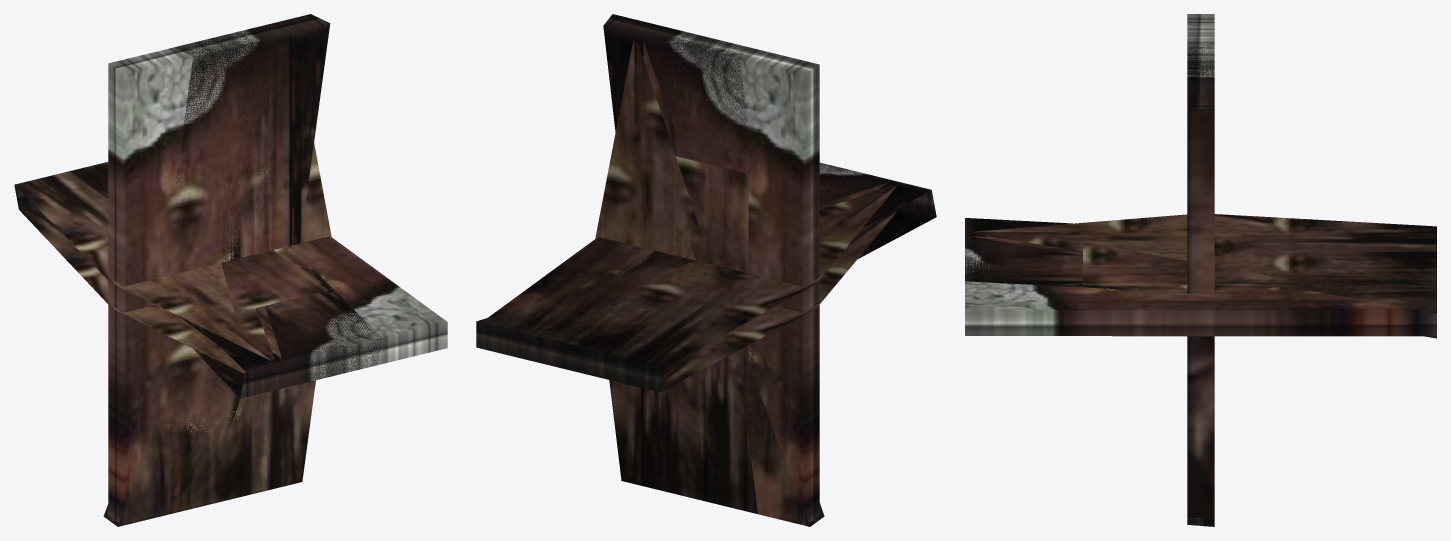
3 renders of one model, left to right at view 1: azimuth 30°, elevation 25°; view 2: azimuth 150°, elevation 25°; view 3: azimuth 270°, elevation 25°, orthographic. The views are drawn at different scales.
Parts seen in each view (by area): view 1: 3, 0, 8, 2, 4, 1, 6, 9; view 2: 3, 4, 8, 5, 2, 7, 0, 9, 1, 6; view 3: 2, 4, 0, 5, 6, 1, 3.
Boxes of the visible parts, x1,y1,x2,y2 form: 3: [108, 14, 330, 522]; 0: [172, 22, 291, 438]; 8: [103, 143, 331, 526]; 2: [194, 236, 447, 398]; 4: [14, 162, 276, 373]; 1: [179, 246, 382, 389]; 6: [221, 250, 327, 312]; 9: [34, 163, 282, 361]; 3: [603, 14, 819, 525]; 4: [476, 182, 899, 392]; 8: [595, 34, 824, 526]; 5: [641, 35, 757, 513]; 2: [488, 162, 936, 317]; 7: [675, 156, 748, 398]; 0: [636, 25, 759, 369]; 9: [524, 181, 892, 388]; 1: [613, 163, 897, 278]; 6: [603, 251, 695, 288]; 2: [965, 218, 1436, 336]; 4: [966, 214, 1436, 338]; 0: [1187, 44, 1214, 293]; 5: [1187, 336, 1214, 517]; 6: [1083, 242, 1318, 285]; 1: [965, 241, 1288, 292]; 3: [1187, 14, 1214, 109].
Bounding box in the file's own units: 36.3 × 72.11 × 72.09.
